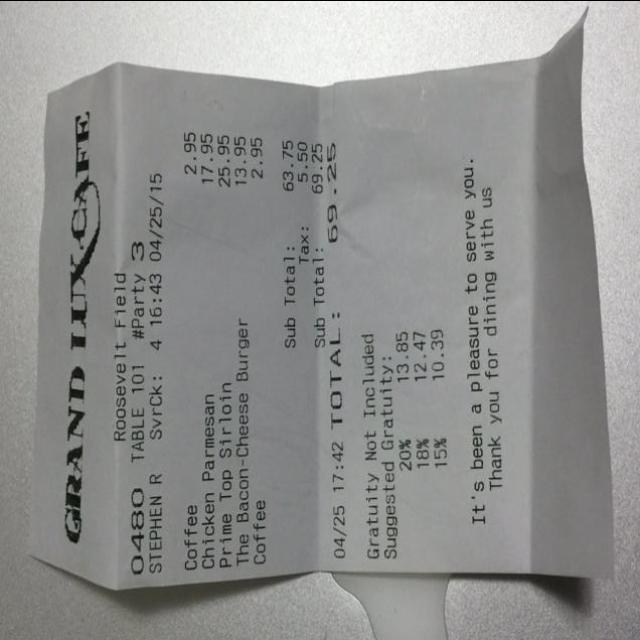kertas: (20, 20, 613, 588)
